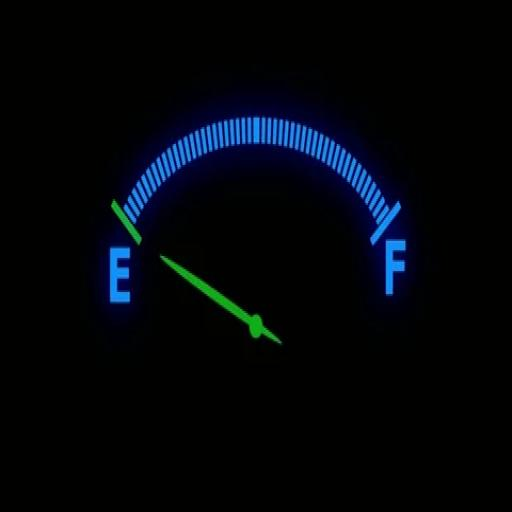empty: (108, 242, 136, 313)
full: (383, 237, 409, 303)
guage_area: (82, 99, 446, 371)
needle_center: (243, 305, 270, 349), (156, 248, 176, 272)
